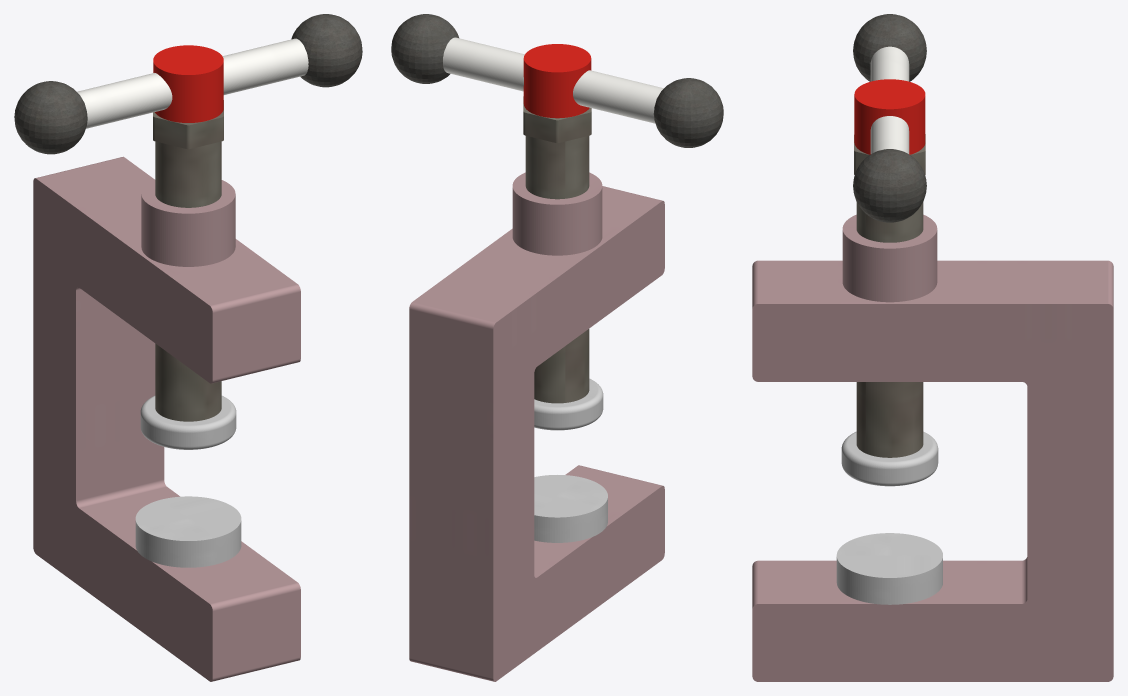
The model's file is Handtools_Clamp__0001.glb.
3 renders of one model, left to right at view 1: azimuth 30°, elevation 25°; view 2: azimuth 150°, elevation 25°; view 3: azimuth 270°, elevation 25°, orthographic. The views are drawn at different scales.
Parts seen in each view (by area): view 1: frame::frame_body, screw::screw_core, frame::anvil_pad, screw::tbar, screw::handle_hub, screw::ball_0, screw::ball_1, screw::swivel_pad, screw::screw_collar; view 2: frame::frame_body, screw::screw_core, screw::tbar, frame::anvil_pad, screw::handle_hub, screw::ball_0, screw::ball_1, screw::swivel_pad, screw::screw_collar; view 3: frame::frame_body, frame::anvil_pad, screw::screw_core, screw::ball_1, screw::handle_hub, screw::swivel_pad, screw::ball_0, screw::tbar.
Part boxes in pixels (x1,y1,x2,y2): frame::frame_body: (33,156,300,681); screw::screw_core: (155,141,221,421); frame::anvil_pad: (135,496,241,567); screw::tbar: (77,38,308,128); screw::handle_hub: (153,45,223,122); screw::ball_0: (14,81,87,154); screw::ball_1: (291,14,362,87); screw::swivel_pad: (140,395,236,449); screw::screw_collar: (153,100,223,149); frame::frame_body: (409,172,664,681); screw::screw_core: (525,136,589,403); screw::tbar: (443,37,663,123); frame::anvil_pad: (534,475,607,542); screw::handle_hub: (523,44,591,118); screw::ball_0: (653,78,723,147); screw::ball_1: (391,14,458,83); screw::swivel_pad: (534,378,603,430); screw::screw_collar: (523,96,591,143); frame::frame_body: (752,214,1113,681); frame::anvil_pad: (836,533,942,604); screw::screw_core: (856,202,923,457); screw::ball_1: (853,149,926,222); screw::handle_hub: (854,79,925,154); screw::swivel_pad: (841,431,938,486); screw::ball_0: (853,14,926,81); screw::tbar: (870,46,909,154).
Size of the model in its own units: 0.133 by 0.2148 by 0.1221.
6 materials, 6 textured.
